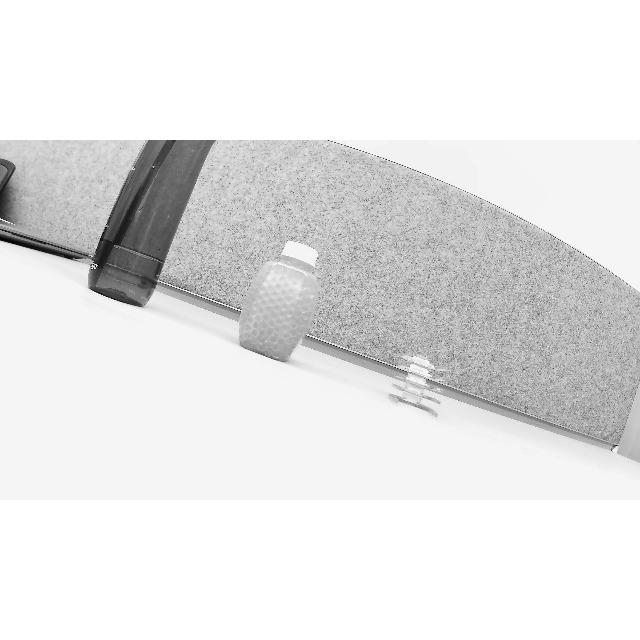targets: (87, 140, 229, 306), (238, 236, 334, 364), (386, 355, 450, 419)
